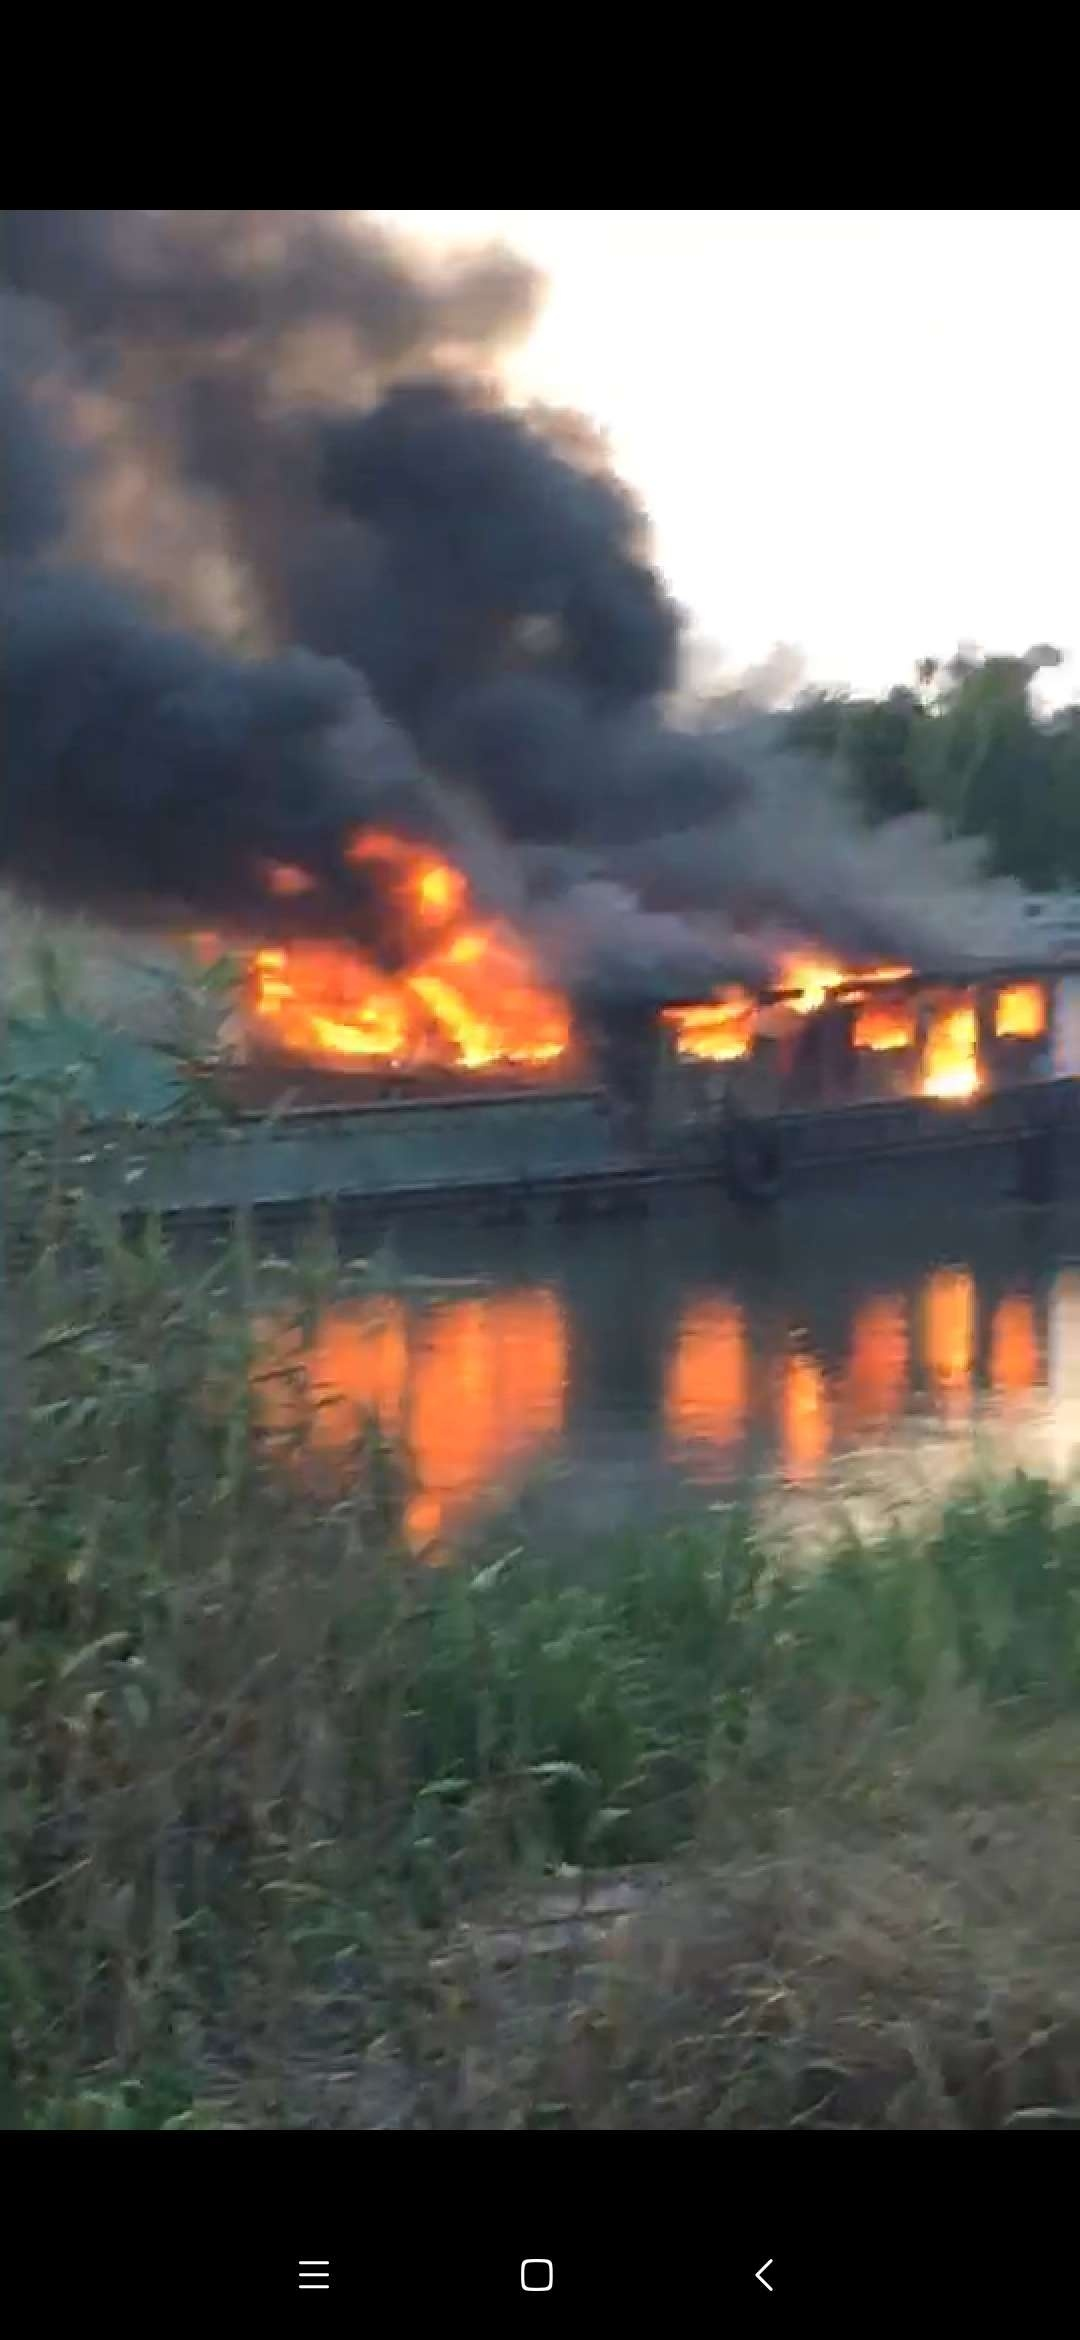fire: (207, 852, 1065, 1082), (219, 839, 561, 1070), (659, 943, 1017, 1092)
